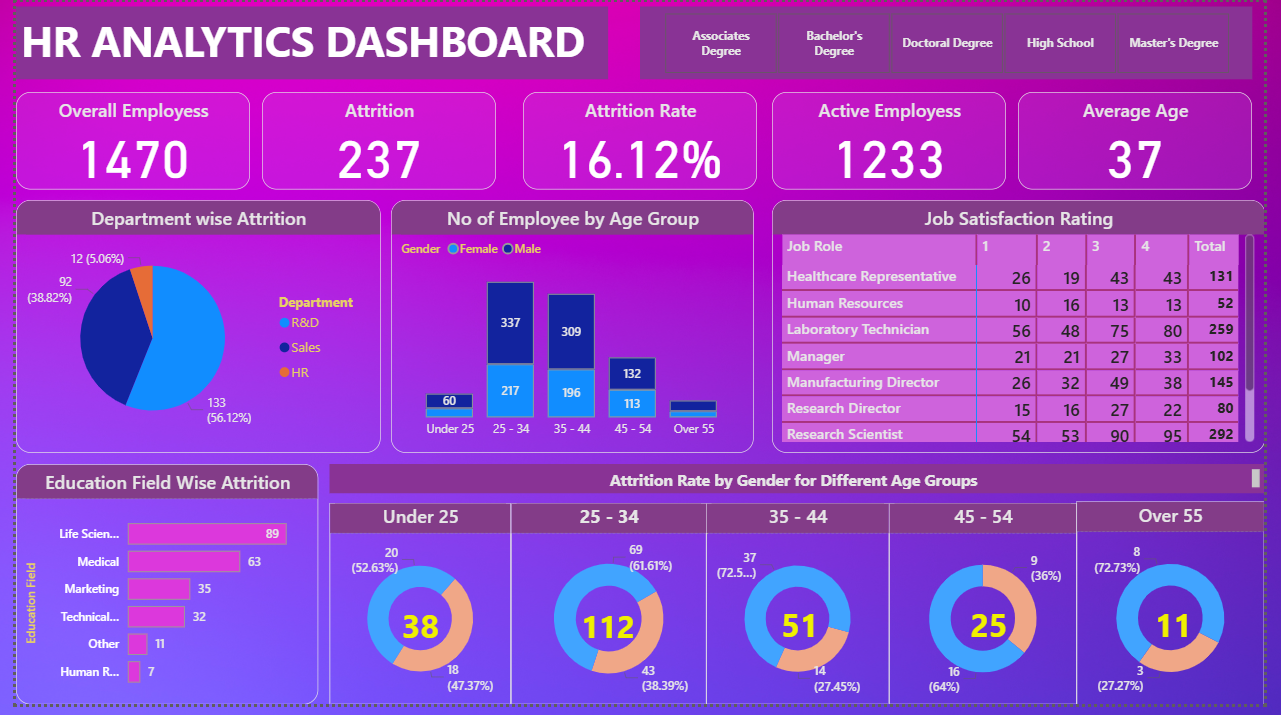

The dashboard page shown, as its layout file describes it:
{"tool":"powerbi","page":{"name":"Page 1","canvas":[1280,720],"ordinal":0},"visuals":[{"type":"card","title":"Overall Employess","fields":{"Values":["Sum(HR data.Employee Count)"]},"box":[0,92.3,240.2,100.2],"z":0},{"type":"card","title":"Attrition","fields":{"Values":["Sum(HR data.Attrition Count)"]},"box":[252.9,92.3,240.2,100.2],"z":1000},{"type":"card","title":"Attrition Rate","fields":{"Values":["HR data.Attrition Rate"]},"box":[520.1,92.3,240.2,100.2],"z":2000},{"type":"card","title":"Active Employess","fields":{"Values":["HR data.Active Employees"]},"box":[774.6,92.3,240.2,100.2],"z":3000},{"type":"card","title":"Average Age","fields":{"Values":["Avg(HR data.Age)"]},"box":[1027.5,92.3,240.2,100.2],"z":4000},{"type":"pieChart","title":"Department wise Attrition","fields":{"Category":["HR data.Department"],"Y":["Sum(HR data.Attrition Count)"]},"box":[0,203.6,373.8,259.3],"z":5000},{"type":"columnChart","title":"No of Employee by Age Group","fields":{"Category":["HR data.CF_age band"],"Y":["Sum(HR data.Employee Count)"],"Series":["HR data.Gender"]},"box":[384.9,203.6,372.2,259.3],"z":6000},{"type":"pivotTable","title":"Job Satisfaction Rating","fields":{"Rows":["HR data.Job Role"],"Columns":["HR data.Job Satisfaction"],"Values":["Sum(HR data.Employee Count)"]},"box":[774.6,203.6,505.8,259.3],"z":7000},{"type":"barChart","title":"Education Field Wise Attrition ","fields":{"Category":["HR data.Education Field"],"Y":["Sum(HR data.Attrition Count)"]},"box":[0,474,310.2,246.5],"z":8000},{"type":"donutChart","title":"Under 25","fields":{"Category":["HR data.Gender"],"Y":["Sum(HR data.Attrition Count)"],"Series":["HR data.CF_age band"]},"box":[321.3,513.8,186.1,206.8],"z":9000},{"type":"donutChart","title":"25 - 34","fields":{"Category":["HR data.Gender"],"Y":["Sum(HR data.Attrition Count)"],"Series":["HR data.CF_age band"]},"box":[507.4,513.8,200.4,206.8],"z":10000},{"type":"donutChart","title":"35 - 44","fields":{"Category":["HR data.Gender"],"Y":["Sum(HR data.Attrition Count)"],"Series":["HR data.CF_age band"]},"box":[707.8,513.8,187.7,206.8],"z":11000},{"type":"donutChart","title":"45 - 54","fields":{"Category":["HR data.Gender"],"Y":["Sum(HR data.Attrition Count)"],"Series":["HR data.CF_age band"]},"box":[895.5,513.8,192.5,206.8],"z":12000},{"type":"donutChart","title":"Over 55","fields":{"Category":["HR data.Gender"],"Y":["Sum(HR data.Attrition Count)"],"Series":["HR data.CF_age band"]},"box":[1088,512.2,192.5,208.4],"z":13000},{"type":"textbox","box":[321.3,474,959.1,30.2],"z":14000},{"type":"card","fields":{"Values":["Sum(HR data.Attrition Count)"]},"box":[367.4,607.6,93.8,63.6],"z":15000},{"type":"card","fields":{"Values":["Sum(HR data.Attrition Count)"]},"box":[559.9,607.6,93.8,63.6],"z":16000},{"type":"card","fields":{"Values":["Sum(HR data.Attrition Count)"]},"box":[757.1,606,93.8,63.6],"z":17000},{"type":"card","fields":{"Values":["Sum(HR data.Attrition Count)"]},"box":[951.2,606,93.8,63.6],"z":18000},{"type":"card","fields":{"Values":["Sum(HR data.Attrition Count)"]},"box":[1140.5,606,93.8,63.6],"z":19000},{"type":"slicer","fields":{"Values":["HR data.Education"]},"box":[639.4,4.8,628.3,74.8],"z":20000},{"type":"textbox","box":[0,4.8,607.6,74.8],"z":21000}]}

Visuals, with their boxes in screenshot pixels (x1, y1, x2, y2), scaled from the page's 1280x720 canvas onto the 1281x715 screenshot:
"Overall Employess" card: select_region(0, 92, 240, 191)
"Attrition" card: select_region(253, 92, 493, 191)
"Attrition Rate" card: select_region(521, 92, 761, 191)
"Active Employess" card: select_region(775, 92, 1016, 191)
"Average Age" card: select_region(1028, 92, 1269, 191)
"Department wise Attrition" pieChart: select_region(0, 202, 374, 460)
"No of Employee by Age Group" columnChart: select_region(385, 202, 758, 460)
"Job Satisfaction Rating" pivotTable: select_region(775, 202, 1280, 460)
"Education Field Wise Attrition " barChart: select_region(0, 471, 310, 714)
"Under 25" donutChart: select_region(322, 510, 508, 714)
"25 - 34" donutChart: select_region(508, 510, 708, 714)
"35 - 44" donutChart: select_region(708, 510, 896, 714)
"45 - 54" donutChart: select_region(896, 510, 1089, 714)
"Over 55" donutChart: select_region(1089, 509, 1280, 714)
textbox: select_region(322, 471, 1280, 501)
card - Sum(HR data.Attrition Count): select_region(368, 603, 462, 667)
card - Sum(HR data.Attrition Count): select_region(560, 603, 654, 667)
card - Sum(HR data.Attrition Count): select_region(758, 602, 852, 665)
card - Sum(HR data.Attrition Count): select_region(952, 602, 1046, 665)
card - Sum(HR data.Attrition Count): select_region(1141, 602, 1235, 665)
slicer - HR data.Education: select_region(640, 5, 1269, 79)
textbox: select_region(0, 5, 608, 79)
